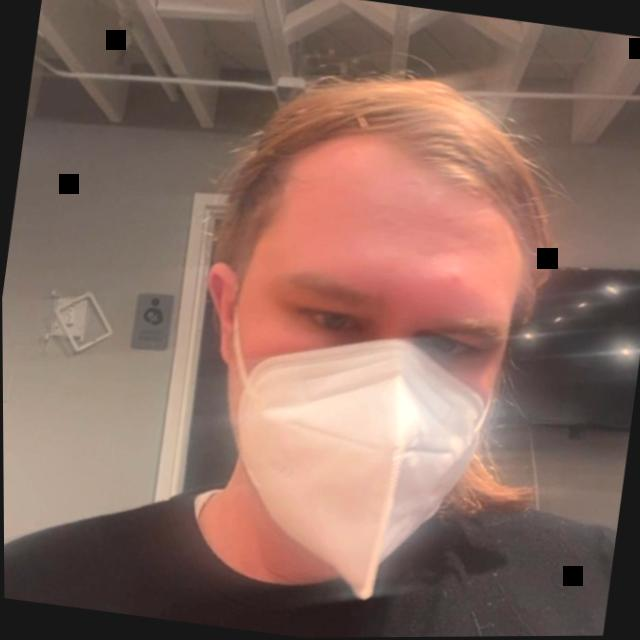Mask: (98, 38, 572, 627)
